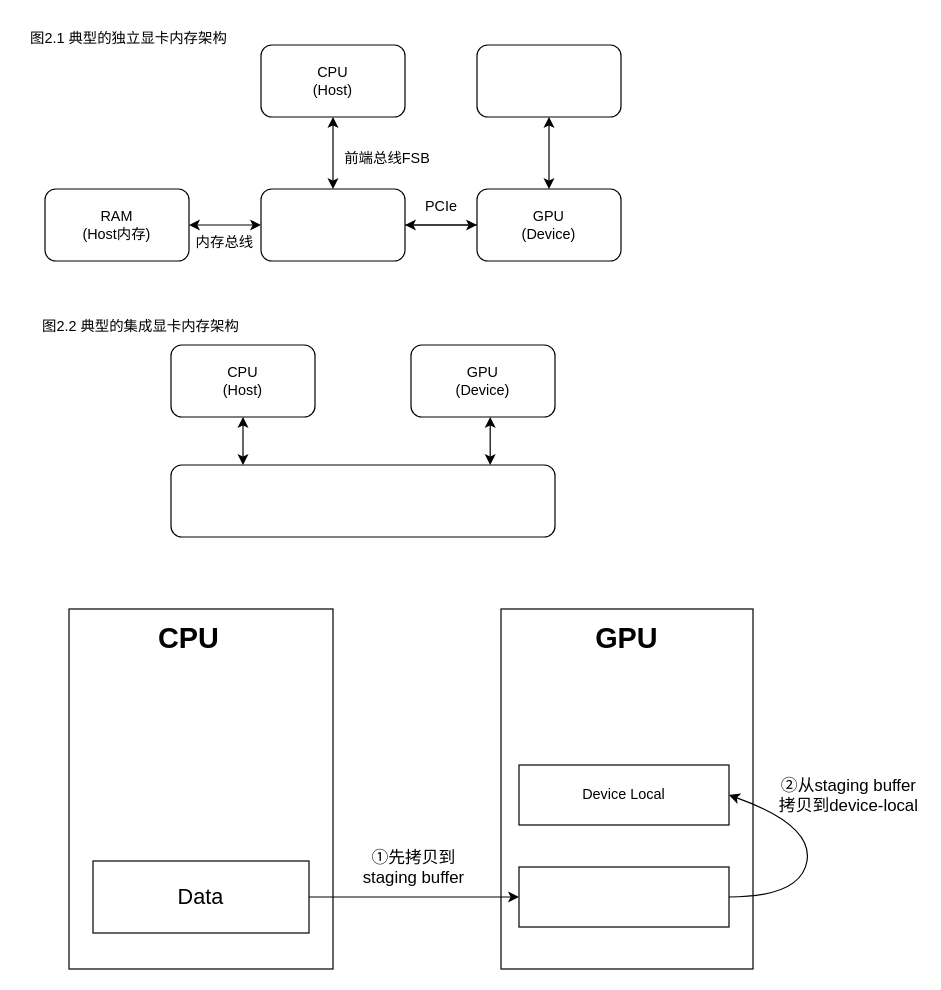
Image size: 941x990. Some labels were removed from this diagram. Each missing label, with the centre of its shape:
"RAM" goes at [362,500].
"Staging buffer (host-visible/coherent)" goes at [623,896].
"北桥 (内存控制器MCH)" goes at [332,224].
"设备DRAM (device内存)" goes at [548,80].
